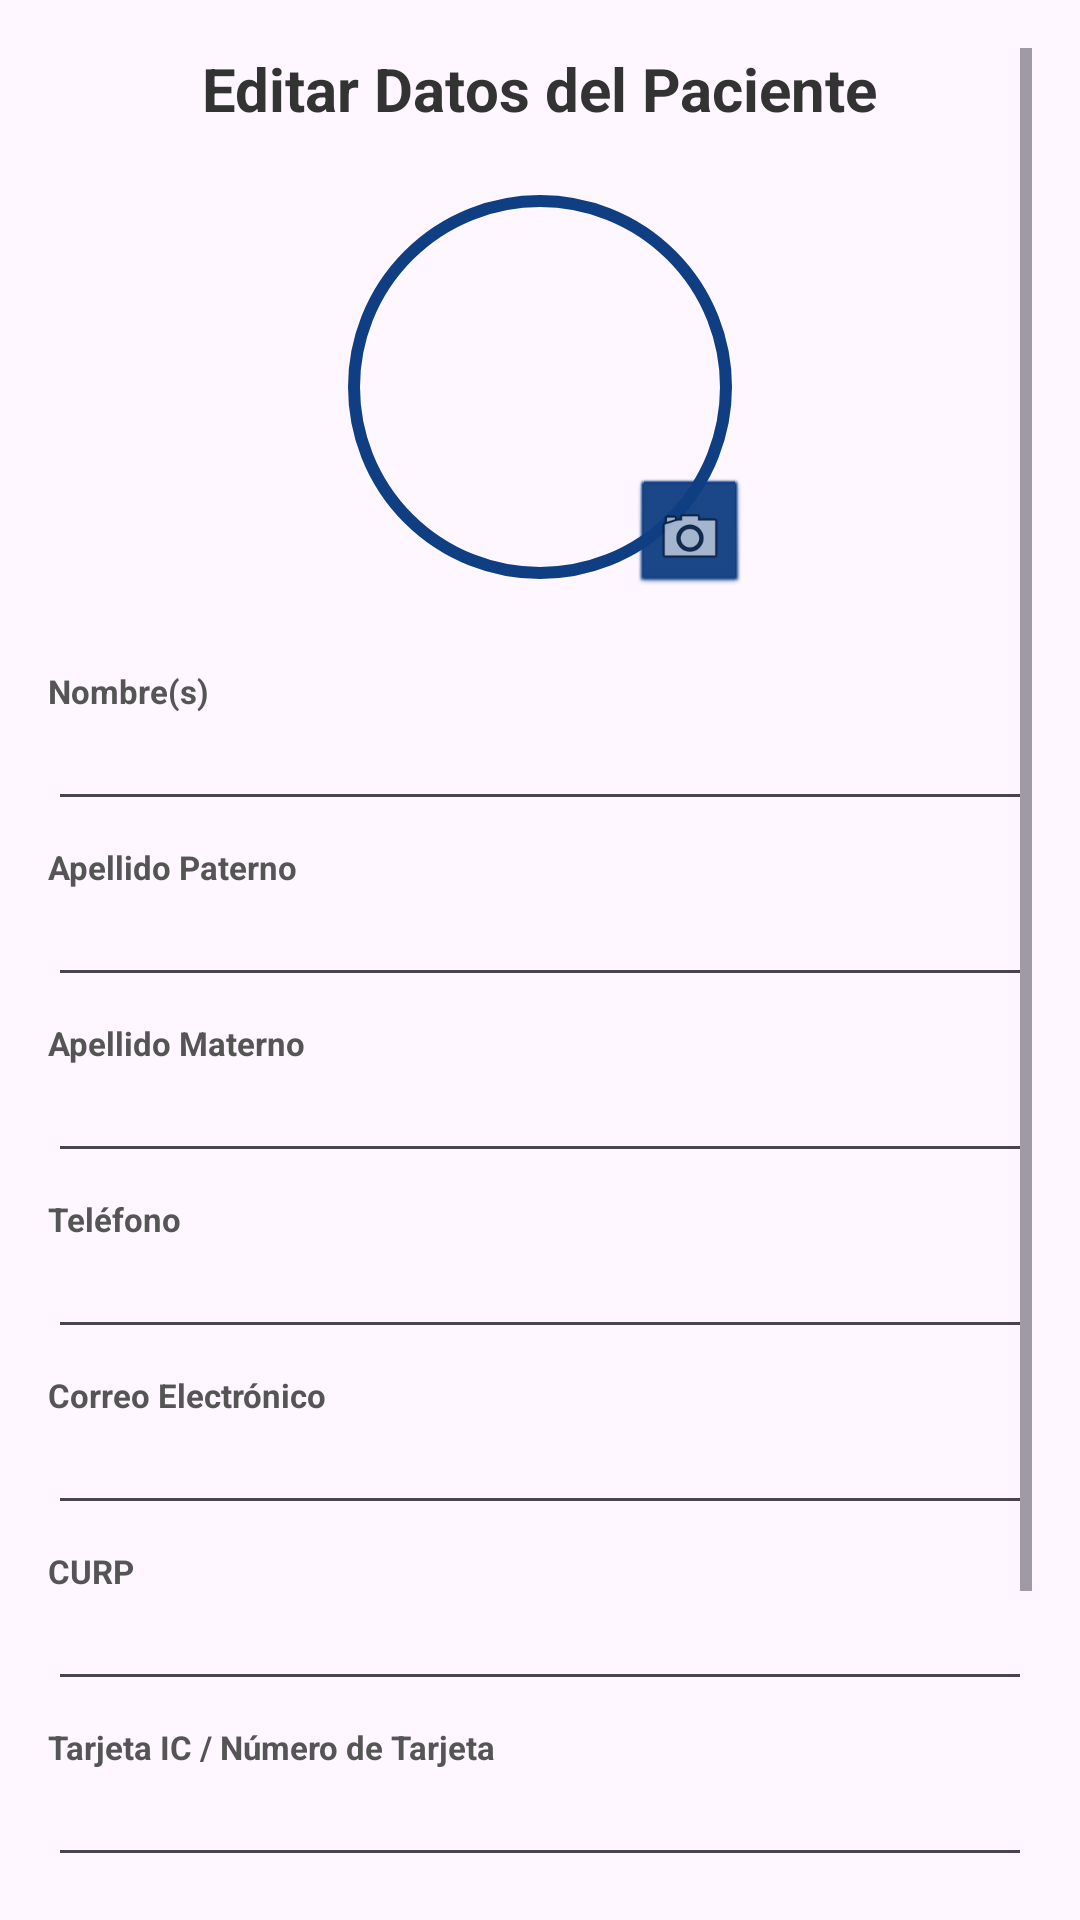

Point at icon controls on the screen. Image size 1080px×1920px, points as (x=x, y=y).
camera: (x=685, y=530)
